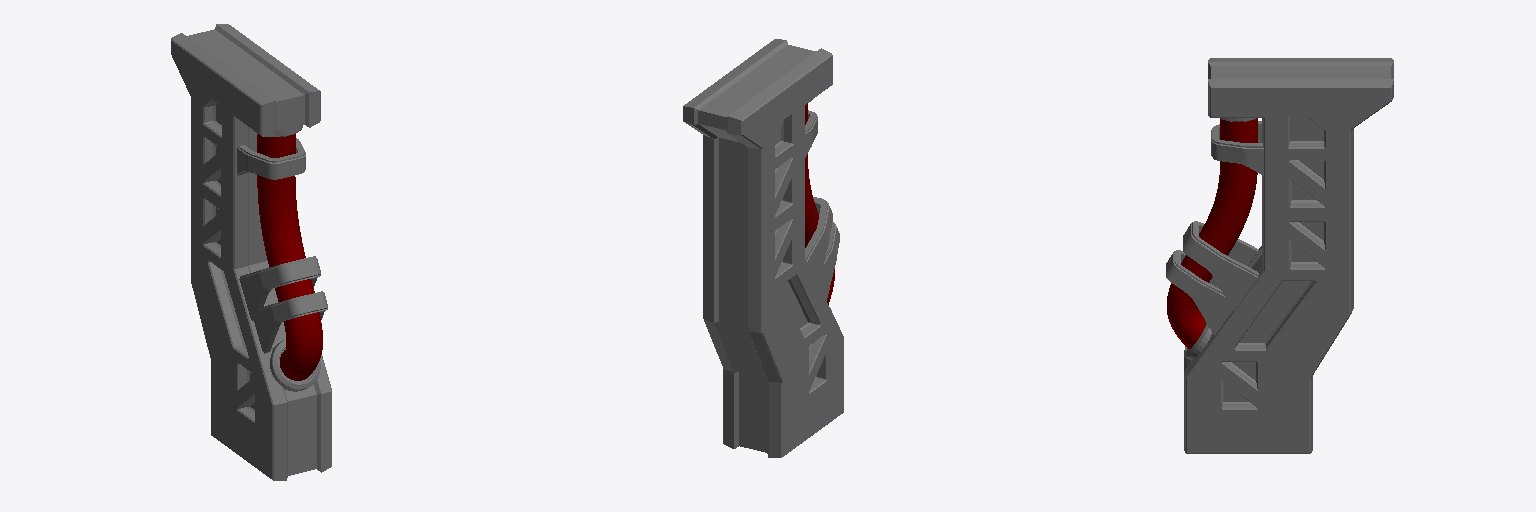
Rendered from SM_Pillar_Tech_v1_TOPOGUN.obj.
The picture shows the model from 3 angles: view 1: azimuth 30°, elevation 25°; view 2: azimuth 150°, elevation 25°; view 3: azimuth 270°, elevation 25°; orthographic projection.
Visible parts, largest first — view 1: SM_Pillar_Tech_v99, polySurface99 polySurface100 temp_pCylinder11 SM_Pillar_Tech_v99; view 2: SM_Pillar_Tech_v99, polySurface99 polySurface100 temp_pCylinder11 SM_Pillar_Tech_v99; view 3: SM_Pillar_Tech_v99, polySurface99 polySurface100 temp_pCylinder11 SM_Pillar_Tech_v99.
Part boxes in pixels (x1,y1,x2,y2): SM_Pillar_Tech_v99: (171, 24, 331, 480); polySurface99 polySurface100 temp_pCylinder11 SM_Pillar_Tech_v99: (239, 256, 327, 353); SM_Pillar_Tech_v99: (683, 39, 843, 457); polySurface99 polySurface100 temp_pCylinder11 SM_Pillar_Tech_v99: (805, 197, 839, 300); SM_Pillar_Tech_v99: (1167, 58, 1393, 453); polySurface99 polySurface100 temp_pCylinder11 SM_Pillar_Tech_v99: (1166, 221, 1258, 334).
Bounding box in the file's own units: 102 × 604 × 337.